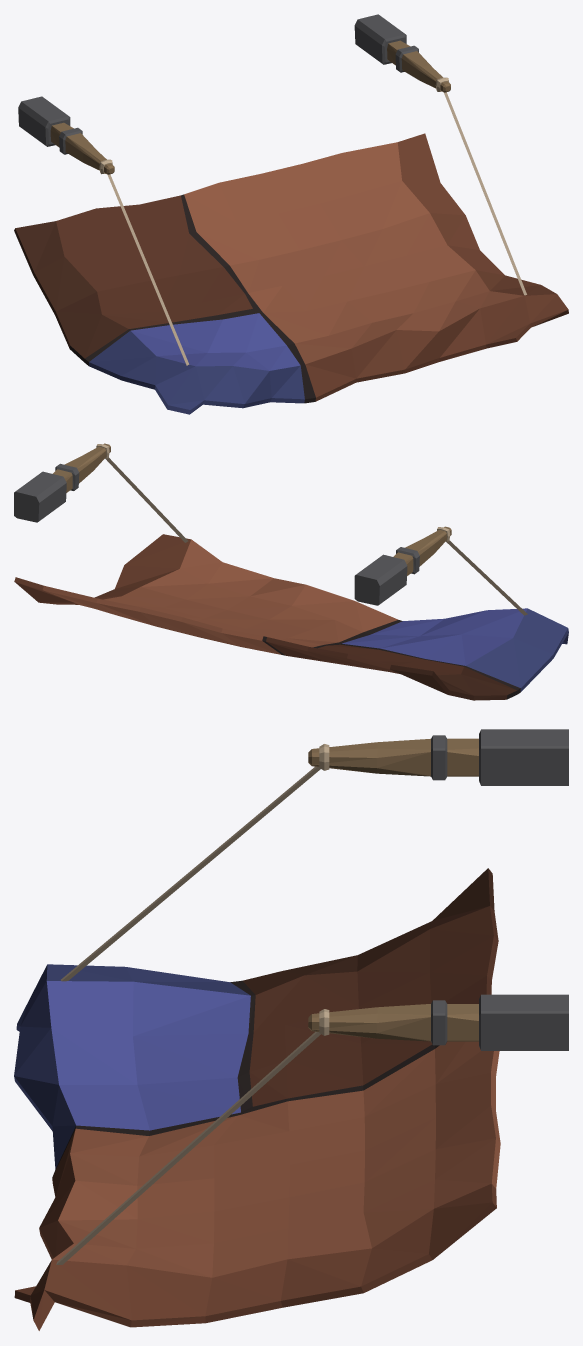
The model's file is SM_Prop_Stall_Cloth_04.glb.
The picture shows the model from 3 angles, top to bottom: view 1: azimuth 30°, elevation 25°; view 2: azimuth 150°, elevation 25°; view 3: azimuth 270°, elevation 25°; orthographic projection. The views are drawn at different scales.
Parts seen in each view (by area): view 1: SM_Prop_Stall_Cloth_04_part00; view 2: SM_Prop_Stall_Cloth_04_part00; view 3: SM_Prop_Stall_Cloth_04_part00.
Boxes of the visible parts, x1,y1,x2,y2 form: SM_Prop_Stall_Cloth_04_part00: (14,14,568,414); SM_Prop_Stall_Cloth_04_part00: (14,443,568,700); SM_Prop_Stall_Cloth_04_part00: (14,729,568,1330).
Size of the model in its own units: 3.73 by 1.81 by 2.61.
Materials: 1 (1 with a texture image).
